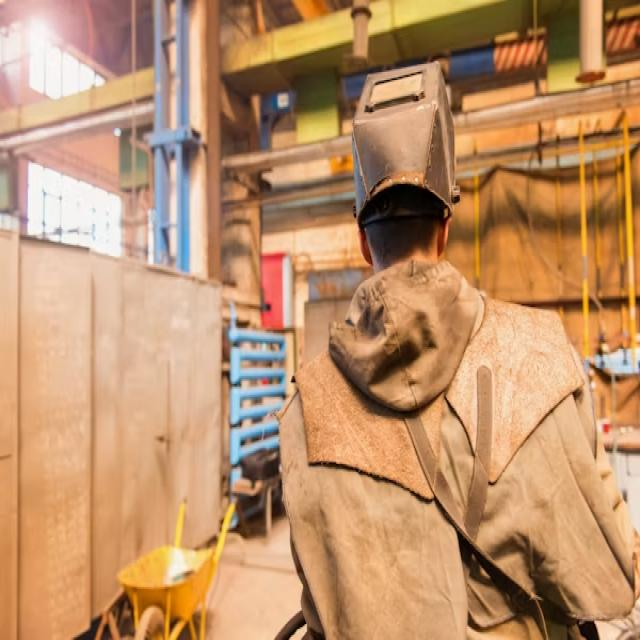helmet_lifted: (340, 64, 470, 289)
